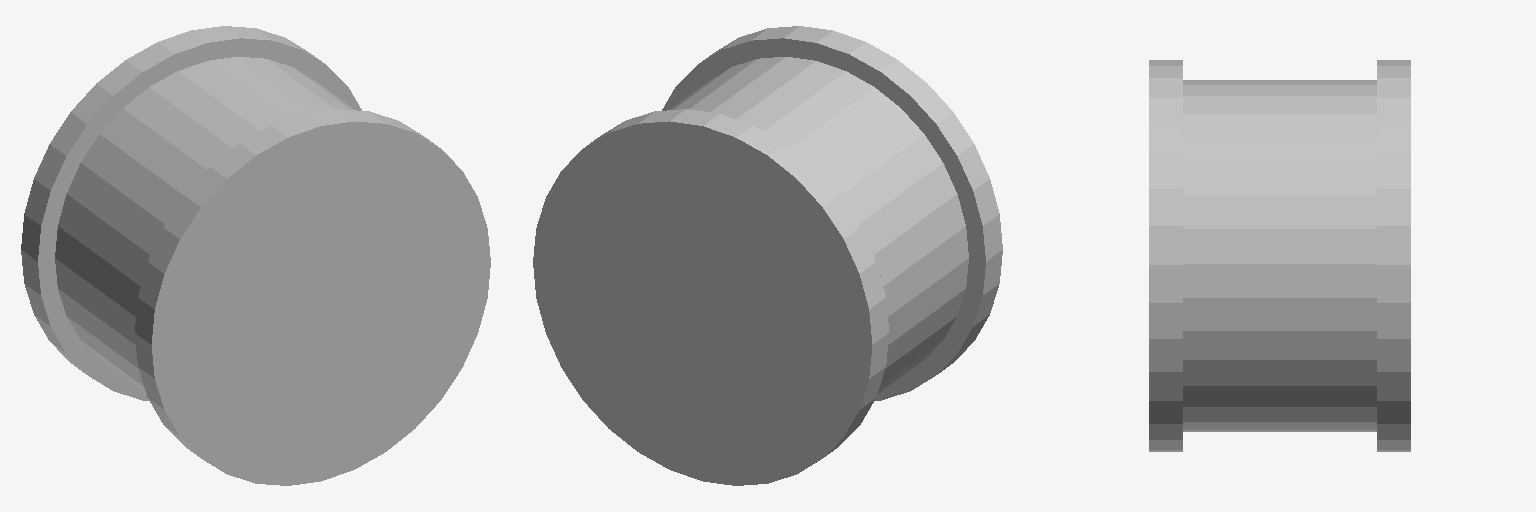
Rendered from crane2.obj.
The picture shows the model from 3 angles: view 1: azimuth 30°, elevation 25°; view 2: azimuth 150°, elevation 25°; view 3: azimuth 270°, elevation 25°; orthographic projection.
Parts seen in each view (by area): view 1: Cylinder; view 2: Cylinder; view 3: Cylinder.
Part boxes in pixels (x1,y1,x2,y2): Cylinder: (21,26,490,485); Cylinder: (533,26,1002,485); Cylinder: (1149,60,1410,451).
Size of the model in its own units: 142 by 142 by 94.76.